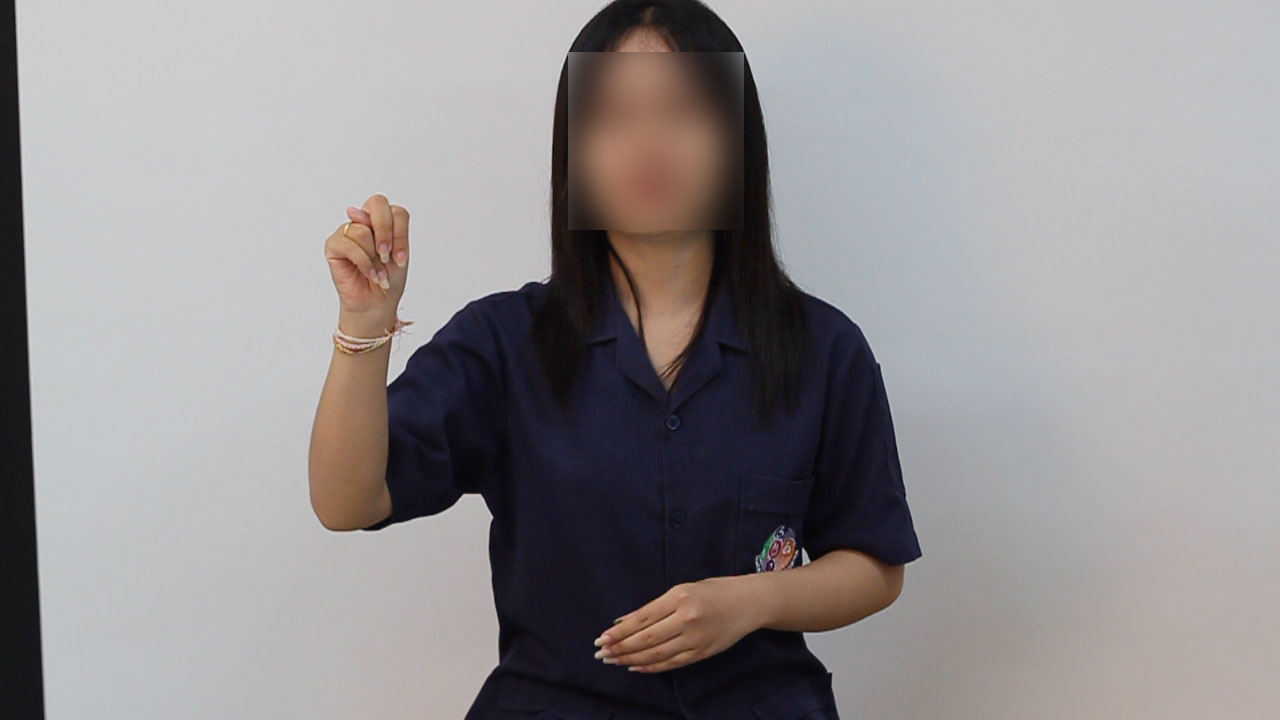nor: (304, 185, 432, 333)
